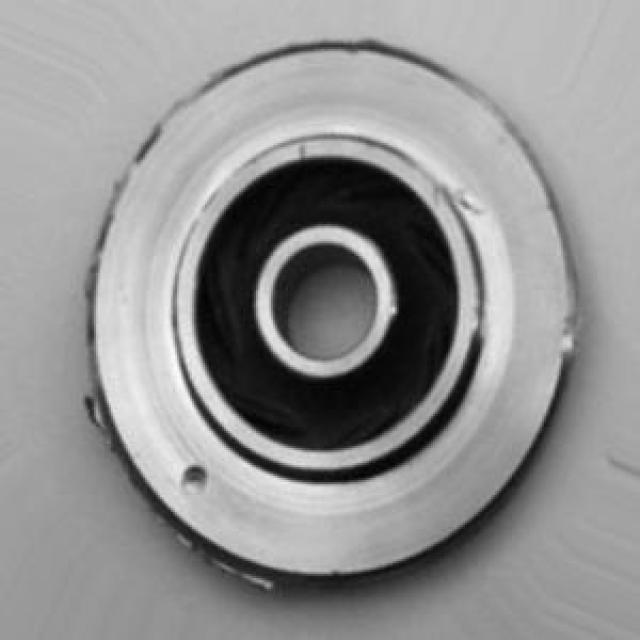Defect: (178, 448, 229, 509)
